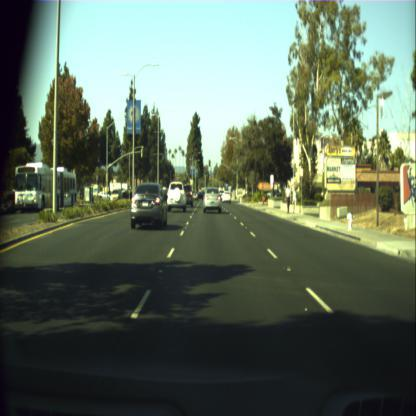Red: (186, 175, 188, 181)
off: (208, 160, 210, 166)
